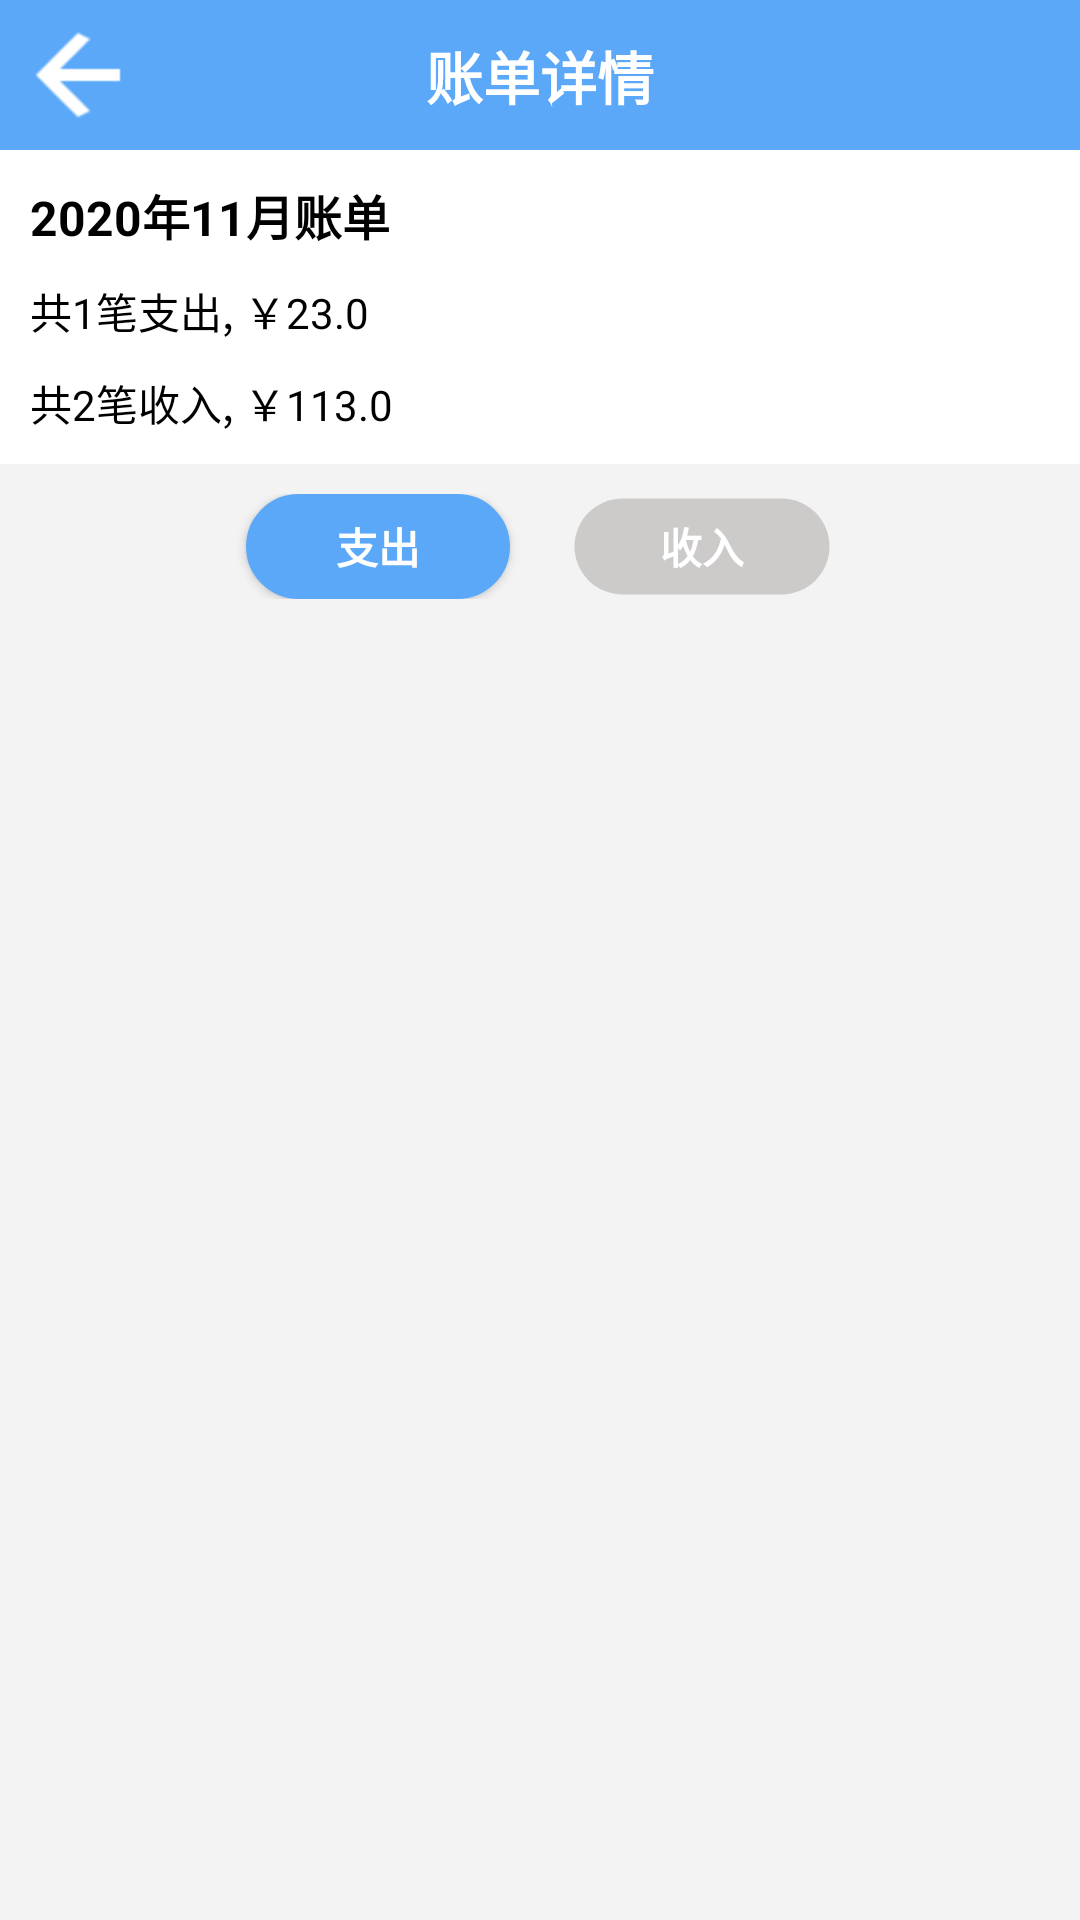

Named icons in this screenshot (1080w x 1920h) and their centers, [x,y]:
back: [78,75]
